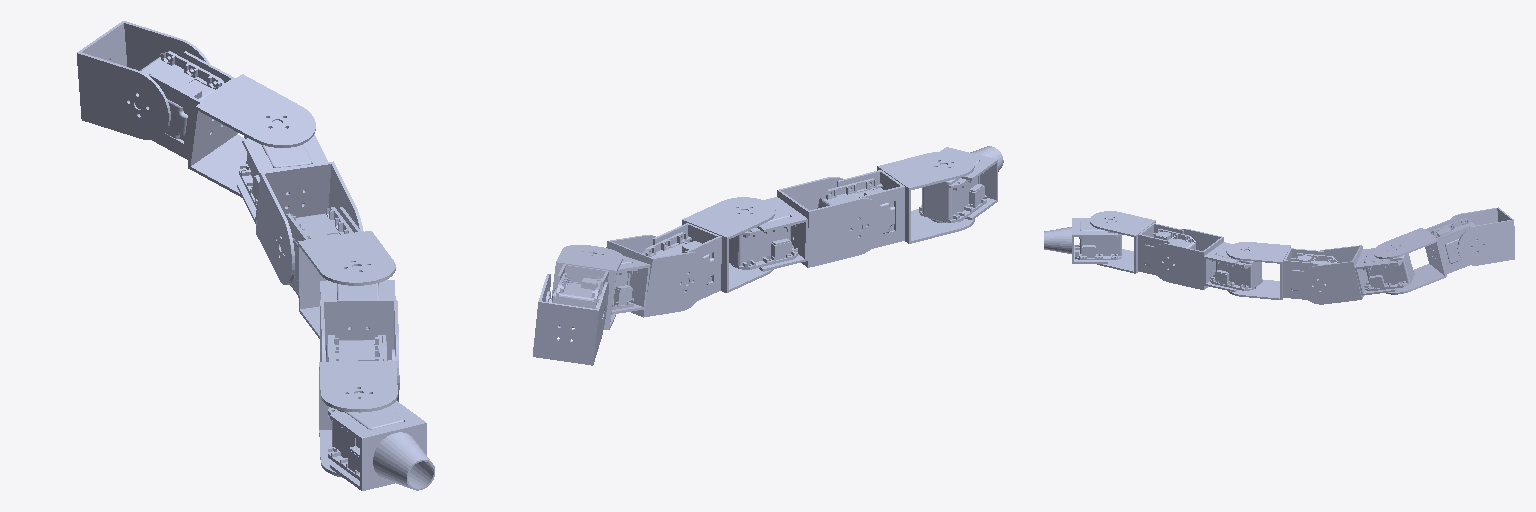
The robot description file, URDF, robot "TestModule":
<?xml version="1.0" encoding="utf-8"?>
<!-- This URDF was automatically created by SolidWorks to URDF Exporter! Originally created by [author] ([email redacted]) 
     Commit Version: 1.6.0-4-g7f85cfe  Build Version: 1.6.7995.38578
     For more information, please see http://wiki.ros.org/sw_urdf_exporter -->
<robot
  name="TestModule">
  <link
    name="base_link">
    <inertial>
      <origin
        xyz="-6.76297786869617E-09 0.027055001238608 -2.75401897969763E-05"
        rpy="0 0 0" />
      <mass
        value="0.0495277420594302" />
      <inertia
        ixx="1.41497431902944E-05"
        ixy="-5.54975854913089E-13"
        ixz="3.69455254005619E-12"
        iyy="9.94040203055089E-06"
        iyz="-1.8288699250526E-07"
        izz="1.2459726463517E-05" />
    </inertial>
    <visual>
      <origin
        xyz="0 0 0"
        rpy="0 0 0" />
      <geometry>
        <mesh
          filename="package://TestModule/meshes/base_link.STL" />
      </geometry>
      <material
        name="">
        <color
          rgba="0.792156862745098 0.819607843137255 0.933333333333333 1" />
      </material>
    </visual>
    <collision>
      <origin
        xyz="0 0 0"
        rpy="0 0 0" />
      <geometry>
        <mesh
          filename="package://TestModule/meshes/base_link.STL" />
      </geometry>
    </collision>
  </link>
  <link
    name="head">
    <inertial>
      <origin
        xyz="0.000524437183906545 -0.0129585093549575 0.000453299518954085"
        rpy="0 0 0" />
      <mass
        value="0.00301708508515438" />
      <inertia
        ixx="4.38014874293169E-07"
        ixy="4.25463023339811E-23"
        ixz="-1.06031804154792E-38"
        iyy="4.43521393164985E-07"
        iyz="9.48867566928348E-39"
        izz="4.38014874293169E-07" />
    </inertial>
    <visual>
      <origin
        xyz="0 0 0"
        rpy="0 0 0" />
      <geometry>
        <mesh
          filename="package://TestModule/meshes/head.STL" />
      </geometry>
      <material
        name="">
        <color
          rgba="0.792156862745098 0.819607843137255 0.933333333333333 1" />
      </material>
    </visual>
    <collision>
      <origin
        xyz="0 0 0"
        rpy="0 0 0" />
      <geometry>
        <mesh
          filename="package://TestModule/meshes/head.STL" />
      </geometry>
    </collision>
  </link>
  <joint
    name="base"
    type="fixed">
    <origin
      xyz="0 0 0"
      rpy="0 0 0" />
    <parent
      link="base_link" />
    <child
      link="head" />
    <axis
      xyz="0 0 0" />
  </joint>
  <link
    name="link1">
    <inertial>
      <origin
        xyz="0.0280266508378638 0.0506969680759188 -0.0215106904993166"
        rpy="0 0 0" />
      <mass
        value="0.0654174338681848" />
      <inertia
        ixx="2.24094591970622E-05"
        ixy="-2.69240795685015E-06"
        ixz="-6.8723065838877E-09"
        iyy="1.94647754174917E-05"
        iyz="-1.24130496939431E-08"
        izz="2.25049138700145E-05" />
    </inertial>
    <visual>
      <origin
        xyz="0 0 0"
        rpy="0 0 0" />
      <geometry>
        <mesh
          filename="package://TestModule/meshes/link1.STL" />
      </geometry>
      <material
        name="">
        <color
          rgba="0.792156862745098 0.819607843137255 0.933333333333333 1" />
      </material>
    </visual>
    <collision>
      <origin
        xyz="0 0 0"
        rpy="0 0 0" />
      <geometry>
        <mesh
          filename="package://TestModule/meshes/link1.STL" />
      </geometry>
    </collision>
  </link>
  <joint
    name="J1"
    type="continuous">
    <origin
      xyz="0 0.04109 0.0236000000000021"
      rpy="0 0 0" />
    <parent
      link="base_link" />
    <child
      link="link1" />
    <axis
      xyz="0 0 1" />
  </joint>
  <link
    name="link2">
    <inertial>
      <origin
        xyz="0.0579265123311286 0.000441593613520752 0.0215545523807336"
        rpy="0 0 0" />
      <mass
        value="0.0654174298247942" />
      <inertia
        ixx="1.78768428788828E-05"
        ixy="-2.27096808240911E-07"
        ixz="1.61661959297937E-08"
        iyy="2.39976170663151E-05"
        iyz="1.97069235553587E-08"
        izz="2.25046857009086E-05" />
    </inertial>
    <visual>
      <origin
        xyz="0 0 0"
        rpy="0 0 0" />
      <geometry>
        <mesh
          filename="package://TestModule/meshes/link2.STL" />
      </geometry>
      <material
        name="">
        <color
          rgba="0.792156862745098 0.819607843137255 0.933333333333333 1" />
      </material>
    </visual>
    <collision>
      <origin
        xyz="0 0 0"
        rpy="0 0 0" />
      <geometry>
        <mesh
          filename="package://TestModule/meshes/link2.STL" />
      </geometry>
    </collision>
  </link>
  <joint
    name="J2"
    type="continuous">
    <origin
      xyz="0.0239778311600057 0.0834079835079483 -0.0215000000000005"
      rpy="1.57079632679487 0 1.06542534387141" />
    <parent
      link="link1" />
    <child
      link="link2" />
    <axis
      xyz="0 0 1" />
  </joint>
  <link
    name="link3">
    <inertial>
      <origin
        xyz="-0.0123754985821023 0.0565779592489334 0.0215106899630436"
        rpy="0 0 0" />
      <mass
        value="0.0654174369601725" />
      <inertia
        ixx="2.36427864006503E-05"
        ixy="1.44782811177329E-06"
        ixz="-3.04186342654156E-09"
        iyy="1.82314489633984E-05"
        iyz="1.38586585553317E-08"
        izz="2.2504914605677E-05" />
    </inertial>
    <visual>
      <origin
        xyz="0 0 0"
        rpy="0 0 0" />
      <geometry>
        <mesh
          filename="package://TestModule/meshes/link3.STL" />
      </geometry>
      <material
        name="">
        <color
          rgba="0.792156862745098 0.819607843137255 0.933333333333333 1" />
      </material>
    </visual>
    <collision>
      <origin
        xyz="0 0 0"
        rpy="0 0 0" />
      <geometry>
        <mesh
          filename="package://TestModule/meshes/link3.STL" />
      </geometry>
    </collision>
  </link>
  <joint
    name="J3"
    type="continuous">
    <origin
      xyz="0.084431517435294 0.024267091432589 0.0212888668492358"
      rpy="-1.54686145887088 1.06525730615688 -3.1134294471901" />
    <parent
      link="link2" />
    <child
      link="link3" />
    <axis
      xyz="0 0 1" />
  </joint>
  <link
    name="link4">
    <inertial>
      <origin
        xyz="0.0556666216989015 0.0160295991494145 0.0213066206849623"
        rpy="0 0 0" />
      <mass
        value="0.0654174305884633" />
      <inertia
        ixx="1.84536923848352E-05"
        ixy="-1.80334125469087E-06"
        ixz="2.91606699825123E-08"
        iyy="2.34251550642555E-05"
        iyz="-8.33540521366826E-08"
        izz="2.25002990278056E-05" />
    </inertial>
    <visual>
      <origin
        xyz="0 0 0"
        rpy="0 0 0" />
      <geometry>
        <mesh
          filename="package://TestModule/meshes/link4.STL" />
      </geometry>
      <material
        name="">
        <color
          rgba="0.792156862745098 0.819607843137255 0.933333333333333 1" />
      </material>
    </visual>
    <collision>
      <origin
        xyz="0 0 0"
        rpy="0 0 0" />
      <geometry>
        <mesh
          filename="package://TestModule/meshes/link4.STL" />
      </geometry>
    </collision>
  </link>
  <joint
    name="J4"
    type="continuous">
    <origin
      xyz="0.000843497178304342 0.0867716927119091 0.0214999999999994"
      rpy="-1.57079632679492 -0.063593640842446 1.78664919794994" />
    <parent
      link="link3" />
    <child
      link="link4" />
    <axis
      xyz="0 0 1" />
  </joint>
  <link
    name="link5">
    <inertial>
      <origin
        xyz="-0.0226920572660301 -0.0532986524498286 0.0215106903634776"
        rpy="0 0 0" />
      <mass
        value="0.0654174406420127" />
      <inertia
        ixx="2.31935756558612E-05"
        ixy="-2.07972462215682E-06"
        ixz="-5.54972747822716E-09"
        iyy="1.86806621359453E-05"
        iyz="-1.30581487452523E-08"
        izz="2.25049157224695E-05" />
    </inertial>
    <visual>
      <origin
        xyz="0 0 0"
        rpy="0 0 0" />
      <geometry>
        <mesh
          filename="package://TestModule/meshes/link5.STL" />
      </geometry>
      <material
        name="">
        <color
          rgba="0.792156862745098 0.819607843137255 0.933333333333333 1" />
      </material>
    </visual>
    <collision>
      <origin
        xyz="0 0 0"
        rpy="0 0 0" />
      <geometry>
        <mesh
          filename="package://TestModule/meshes/link5.STL" />
      </geometry>
    </collision>
  </link>
  <joint
    name="J5"
    type="continuous">
    <origin
      xyz="0.0746665648716999 0.046085605146215 0.0224650961300724"
      rpy="1.81955028483087 -1.35692387492906 0.0407469615500211" />
    <parent
      link="link4" />
    <child
      link="link5" />
    <axis
      xyz="0 0 1" />
  </joint>
  <link
    name="link6">
    <inertial>
      <origin
        xyz="-0.0180491074912299 0.00437066108301949 0.021544034617132"
        rpy="0 0 0" />
      <mass
        value="0.0158896889808624" />
      <inertia
        ixx="8.13328192344153E-06"
        ixy="8.25101152313519E-07"
        ixz="-1.37905152531865E-08"
        iyy="1.13408230222265E-05"
        iyz="3.33942652627307E-09"
        izz="8.35517005485214E-06" />
    </inertial>
    <visual>
      <origin
        xyz="0 0 0"
        rpy="0 0 0" />
      <geometry>
        <mesh
          filename="package://TestModule/meshes/link6.STL" />
      </geometry>
      <material
        name="">
        <color
          rgba="0.792156862745098 0.819607843137255 0.933333333333333 1" />
      </material>
    </visual>
    <collision>
      <origin
        xyz="0 0 0"
        rpy="0 0 0" />
      <geometry>
        <mesh
          filename="package://TestModule/meshes/link6.STL" />
      </geometry>
    </collision>
  </link>
  <joint
    name="J6"
    type="continuous">
    <origin
      xyz="-0.0509605083676154 -0.0702485208877318 0.0215000000000055"
      rpy="1.57079632679492 -0.0230396782144055 1.16864809600552" />
    <parent
      link="link5" />
    <child
      link="link6" />
    <axis
      xyz="0 0 1" />
  </joint>
</robot>

--- Facts derived from the render (not from the file) ---
3 views of the same robot in one strip: view 1: azimuth 30°, elevation 25°; view 2: azimuth 150°, elevation 25°; view 3: azimuth 270°, elevation 25° (orthographic).
Robot: TestModule — 8 links, 7 joints (6 continuous, 1 fixed); root link base_link; default pose: every joint at zero.
Visible links, largest first — view 1: link5, link4, link6, link3, link1, base_link, link2, head; view 2: link2, link1, link3, link4, link6, link5, base_link; view 3: link4, link2, link5, link3, link1, link6, base_link, head.
Link boxes in pixels (left/top/right/bottom): link5: left=140, top=51, right=315, bottom=197; link4: left=237, top=134, right=363, bottom=284; link6: left=77, top=21, right=209, bottom=139; link3: left=285, top=207, right=395, bottom=338; link1: left=319, top=335, right=397, bottom=477; base_link: left=328, top=401, right=426, bottom=490; link2: left=320, top=279, right=399, bottom=401; head: left=373, top=432, right=434, bottom=490; link2: left=729, top=177, right=885, bottom=271; link1: left=819, top=151, right=974, bottom=248; link3: left=643, top=197, right=775, bottom=300; link4: left=606, top=235, right=707, bottom=317; link6: left=533, top=274, right=608, bottom=365; link5: left=551, top=245, right=622, bottom=329; base_link: left=919, top=147, right=997, bottom=222; link4: left=1299, top=245, right=1414, bottom=304; link2: left=1150, top=229, right=1262, bottom=291; link5: left=1373, top=217, right=1475, bottom=294; link3: left=1226, top=242, right=1337, bottom=299; link1: left=1090, top=211, right=1195, bottom=275; link6: left=1451, top=207, right=1514, bottom=265; base_link: left=1072, top=218, right=1121, bottom=263; head: left=1044, top=227, right=1071, bottom=253.
Bounding box of the posed robot: 0.1662 × 0.5066 × 0.0882 m (x, y, z).
8 mesh visuals loaded from 8 distinct referenced files (8 binary STL).